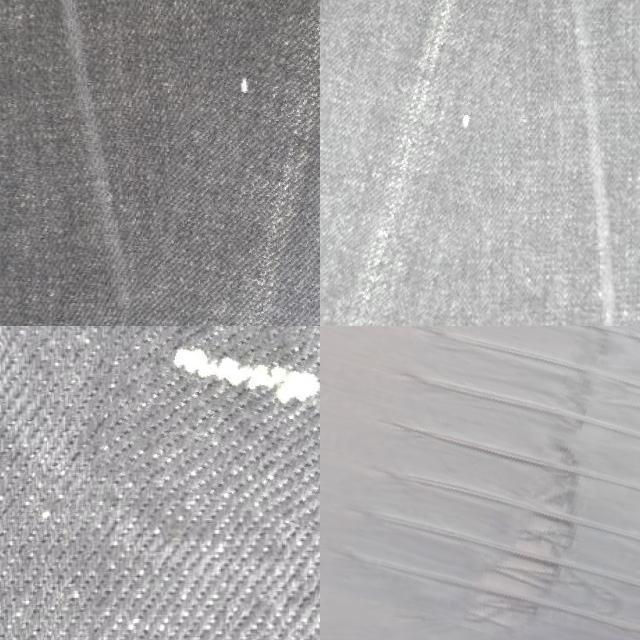Stitch: (320, 326, 640, 640)
Thread_other: (320, 0, 555, 326), (136, 0, 320, 326), (107, 326, 320, 519)
